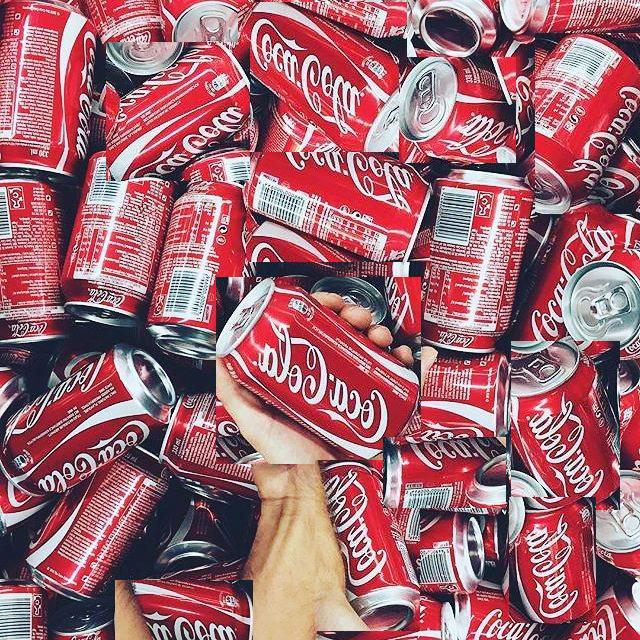coca-cola: (216, 277, 421, 464), (246, 116, 430, 262), (238, 2, 407, 152), (8, 350, 165, 495), (106, 42, 250, 181), (535, 33, 640, 214), (511, 341, 620, 510), (315, 460, 420, 631), (399, 57, 516, 163), (509, 497, 596, 623), (383, 437, 506, 508), (115, 580, 253, 640)
